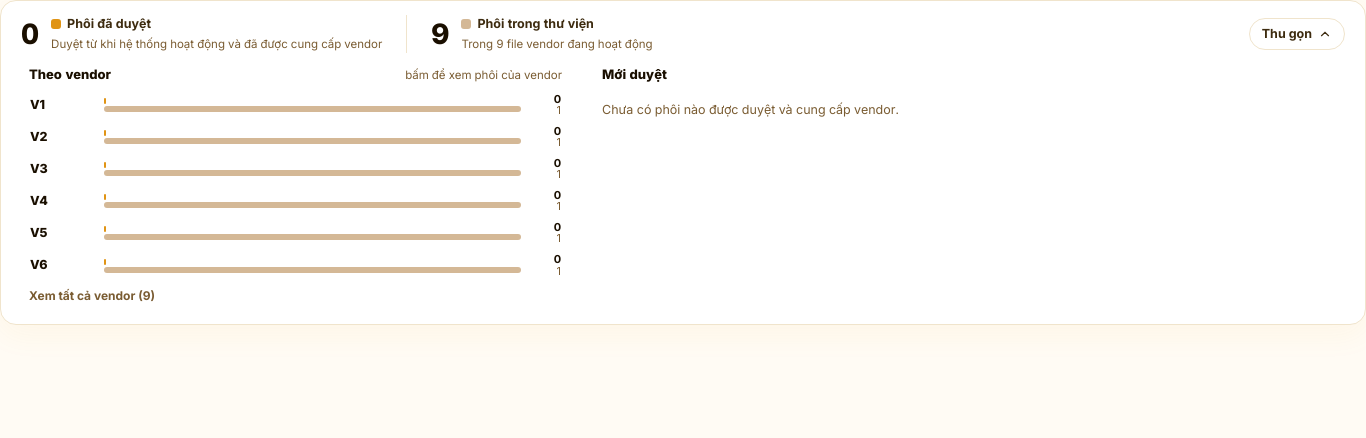
ApprovedPhoiPanel › nhiều vendor thì hiện 6, còn lại mở bằng Xem tất cả vendor
The width and height of the screenshot is (1366, 438).
Expected: the text "Chưa có phôi nào được duyệt và cung cấp vendor." is shown, 602,102 -> 899,116
Expected: the number of buttons named "phôi trong thư viện" is 6, 21,90 -> 570,121; 21,122 -> 570,153; 21,154 -> 570,185; 21,186 -> 570,217; 21,218 -> 570,249; 21,250 -> 570,281
Click the button "Xem tất cả vendor (9)" at coordinates (92, 296), box 21,282 -> 163,310
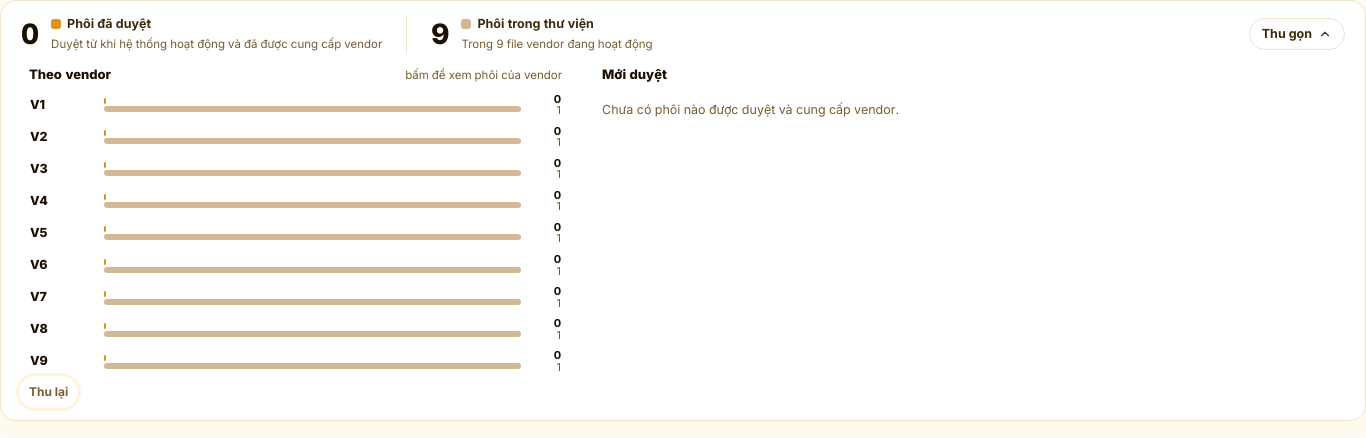
Result: the number of buttons named "phôi trong thư viện" is 9
